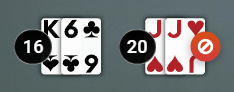6: (61, 18, 82, 41)
j: (143, 18, 165, 39), (164, 18, 185, 40)
k: (39, 16, 63, 42)
